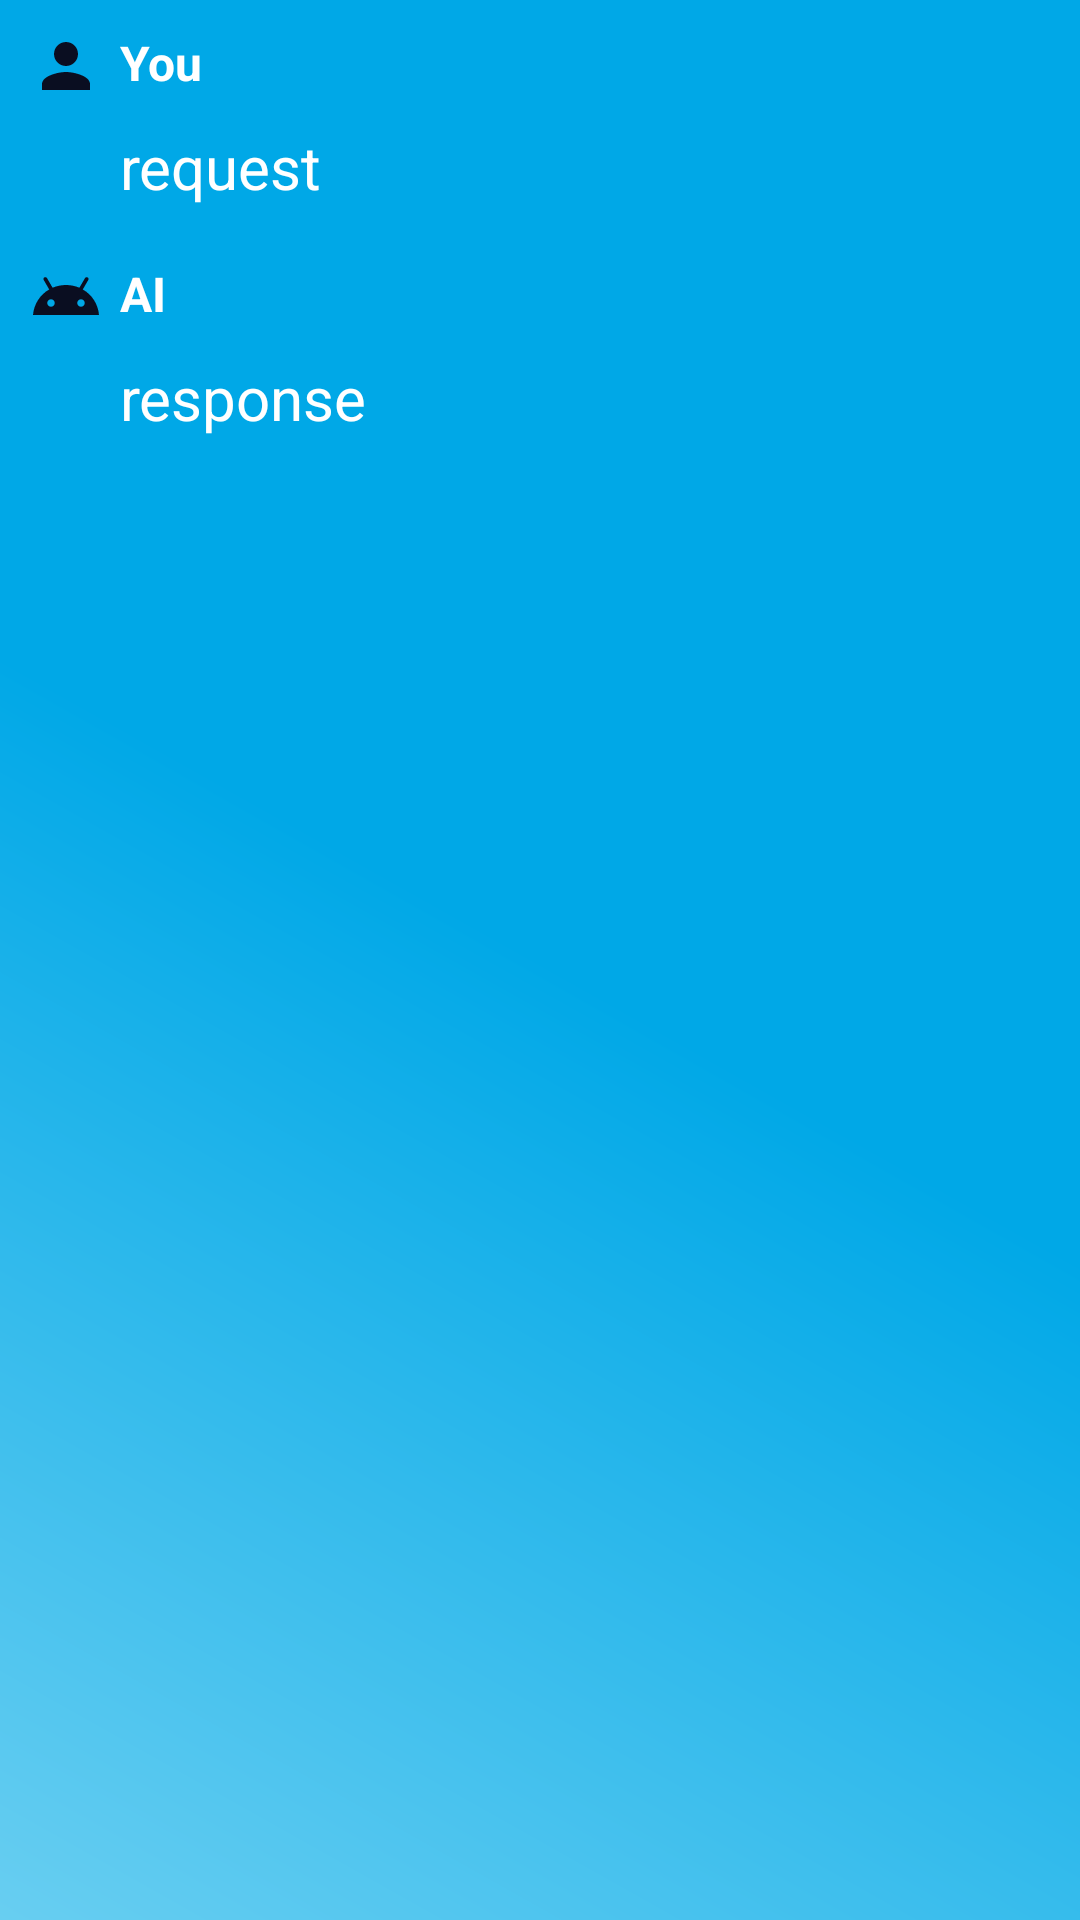

Point at icon controls on the screen. Image size 1080×1920, points as [x,y].
person: [66,66]
